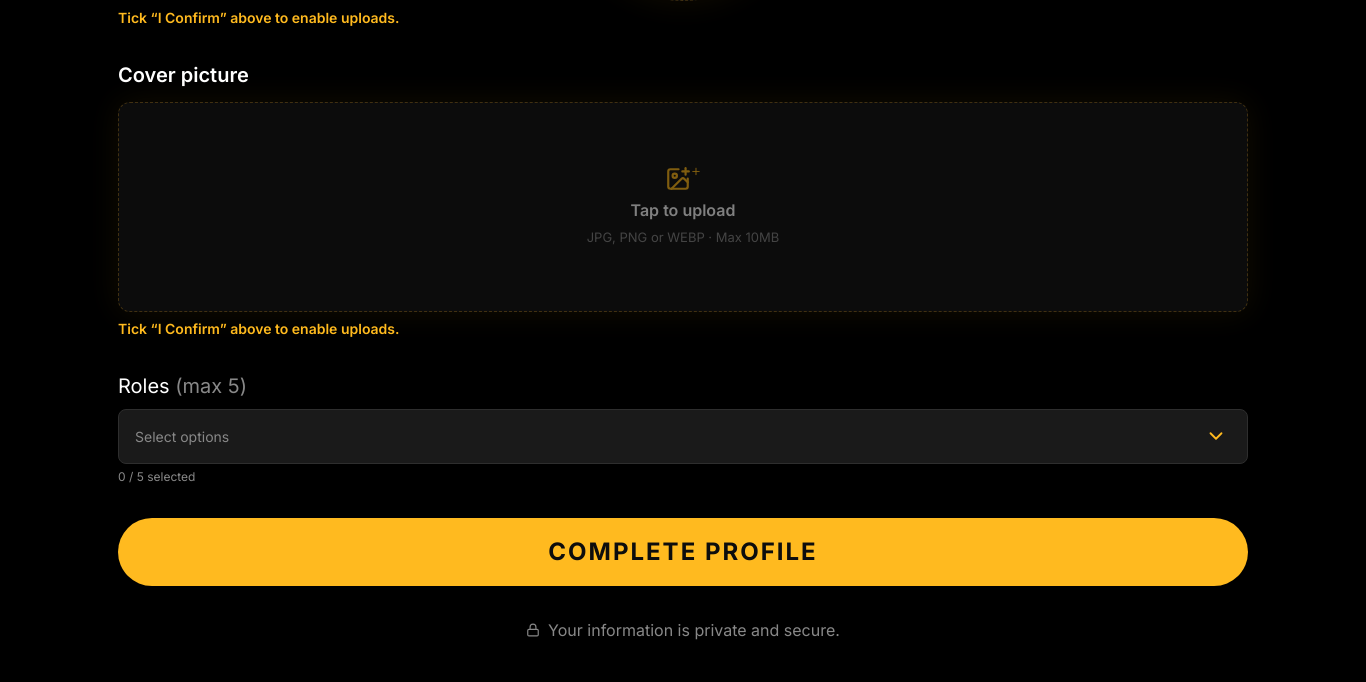
Test: offers former and supplied roles in the searchable multi-select
(page scrolled)
Click the button named "Roles".
click(1216, 436)  # box 1193,418 -> 1239,454
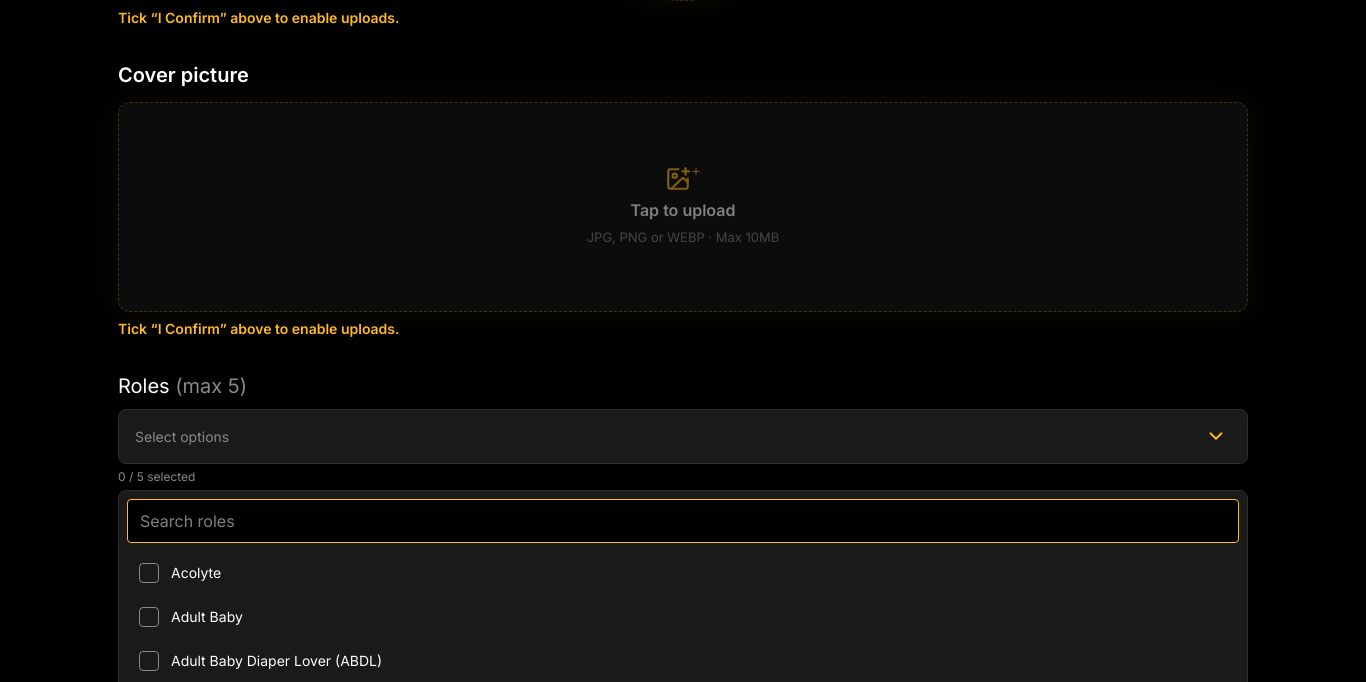
Type "Dominant" into the search field labelled "Search roles".
click(683, 520); type("Dominant")  # box 127,498 -> 1239,542
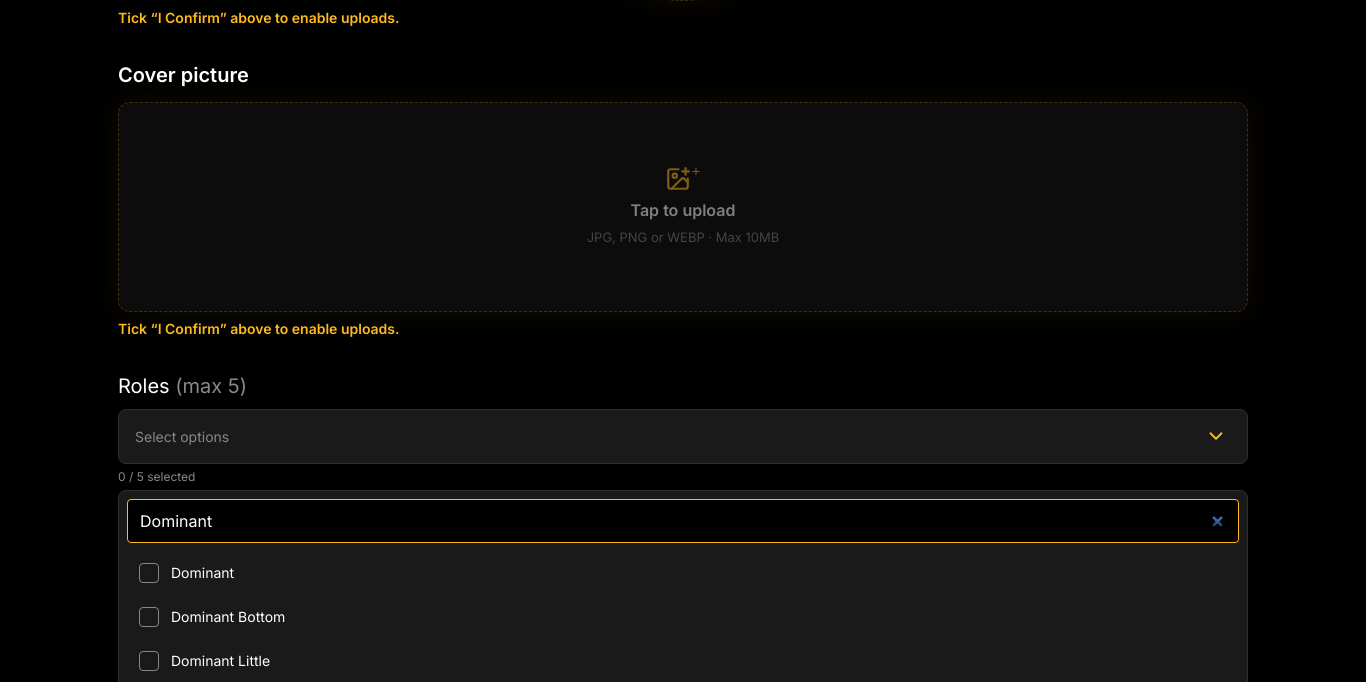
Now the option "Dominant" is shown, box 127,550 -> 1239,594
Replace the text in the search field named "Search roles" with "Acolyte" at (683, 520), box 127,498 -> 1239,542
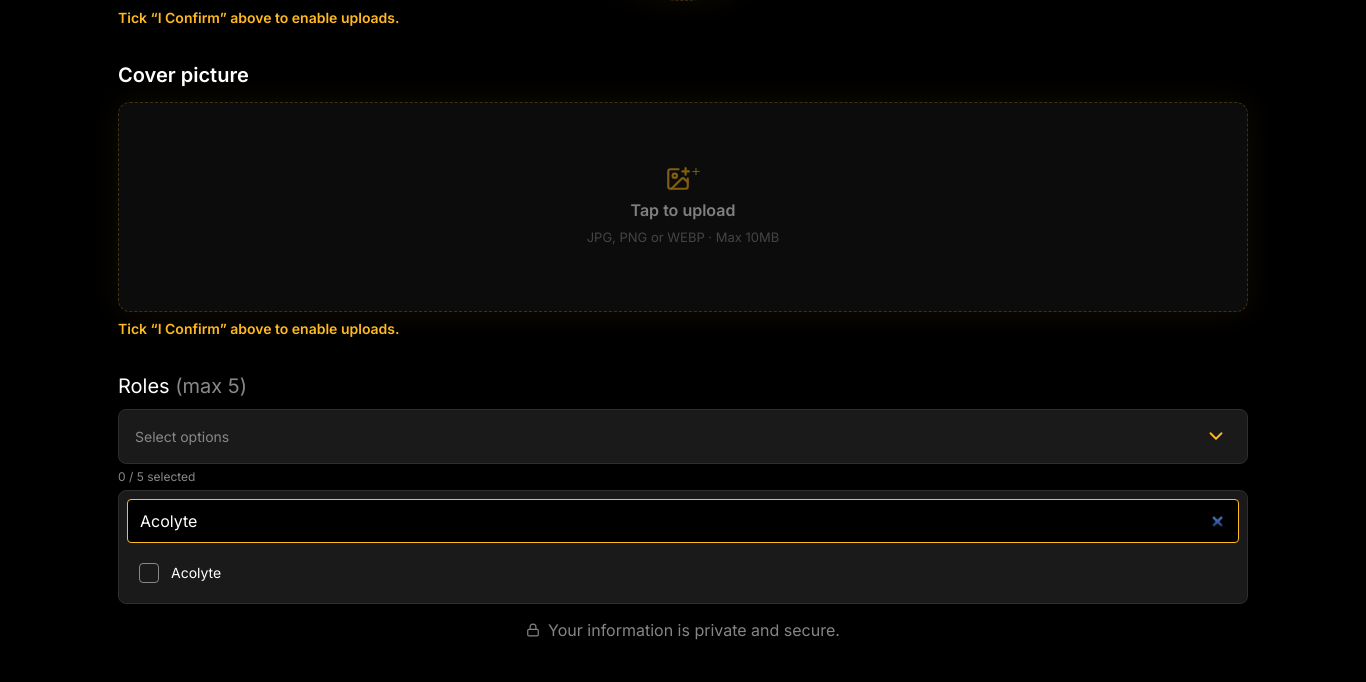
Now the option "Acolyte" is shown, box 127,550 -> 1239,594
Replace the text in the search field named "Search roles" with "Aftercare Buddy" at (683, 520), box 127,498 -> 1239,542
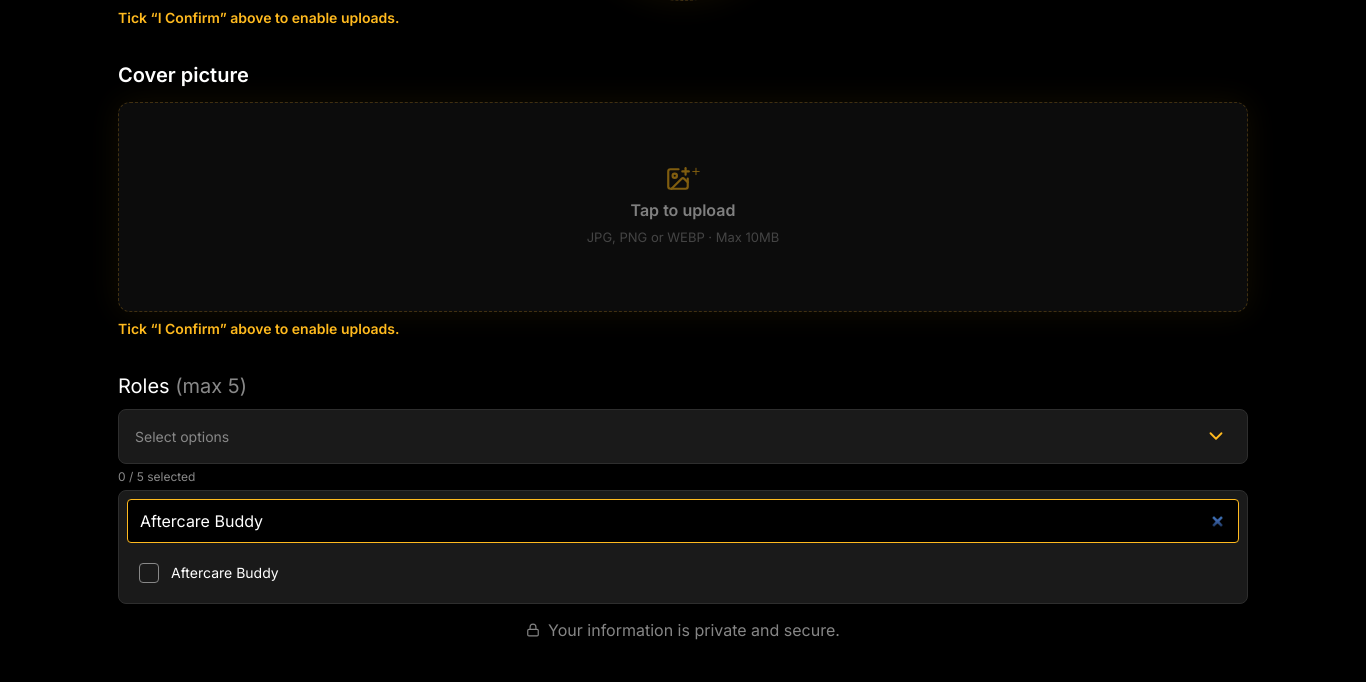
Now the option "Aftercare Buddy" is shown
Click the option "Aftercare Buddy".
click(225, 572)  # box 127,550 -> 1239,594
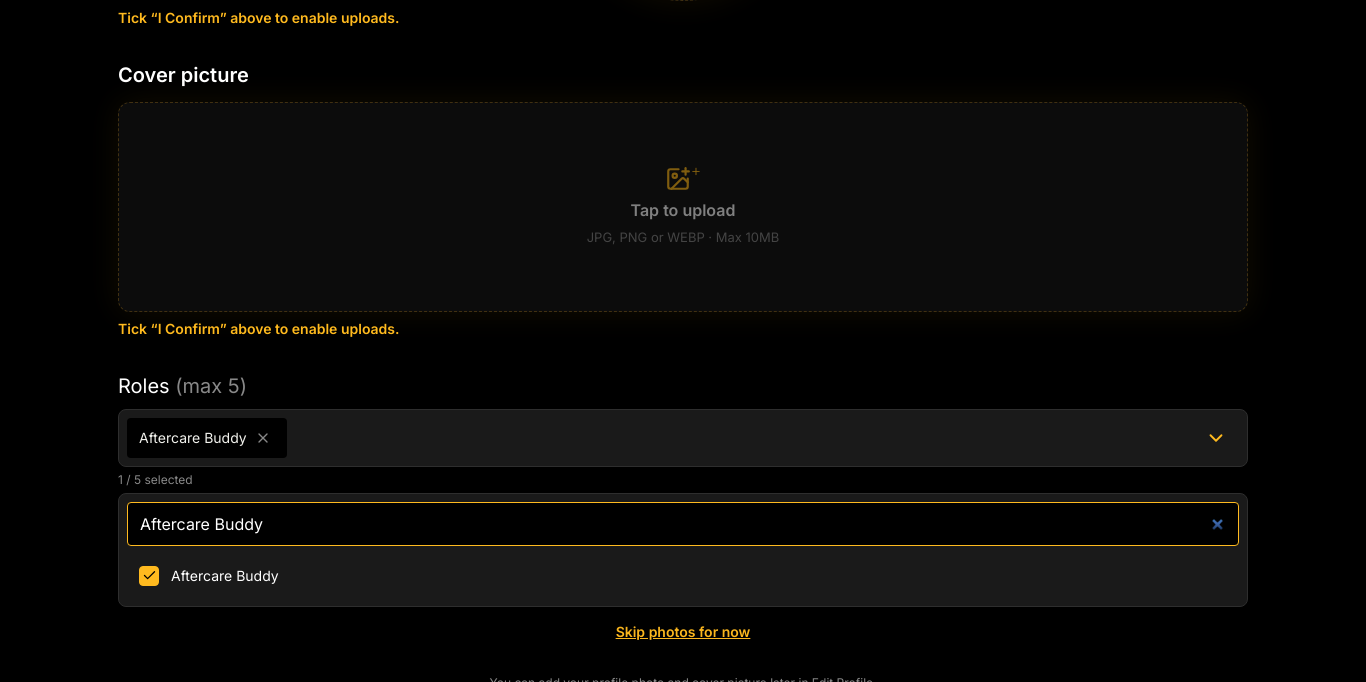
Now the button named "Remove Aftercare Buddy" is shown, box 251,426 -> 275,450
